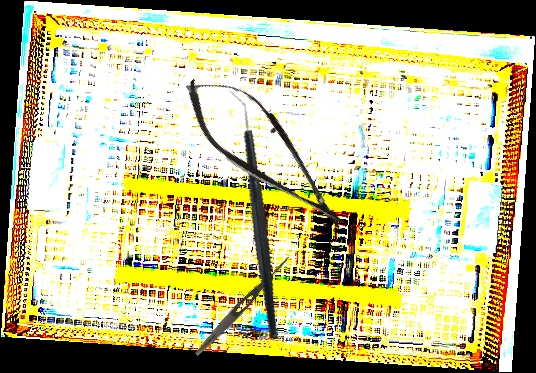Chopper: (175, 88, 332, 341)
Dressing Forceps: (192, 252, 293, 359)
Micro Scissor: (169, 56, 365, 249)
